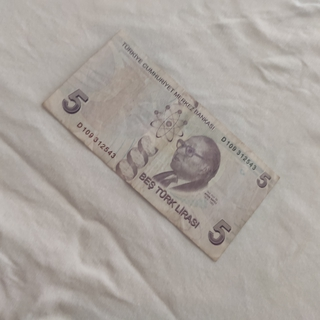5TLBack: (39, 30, 281, 263)
